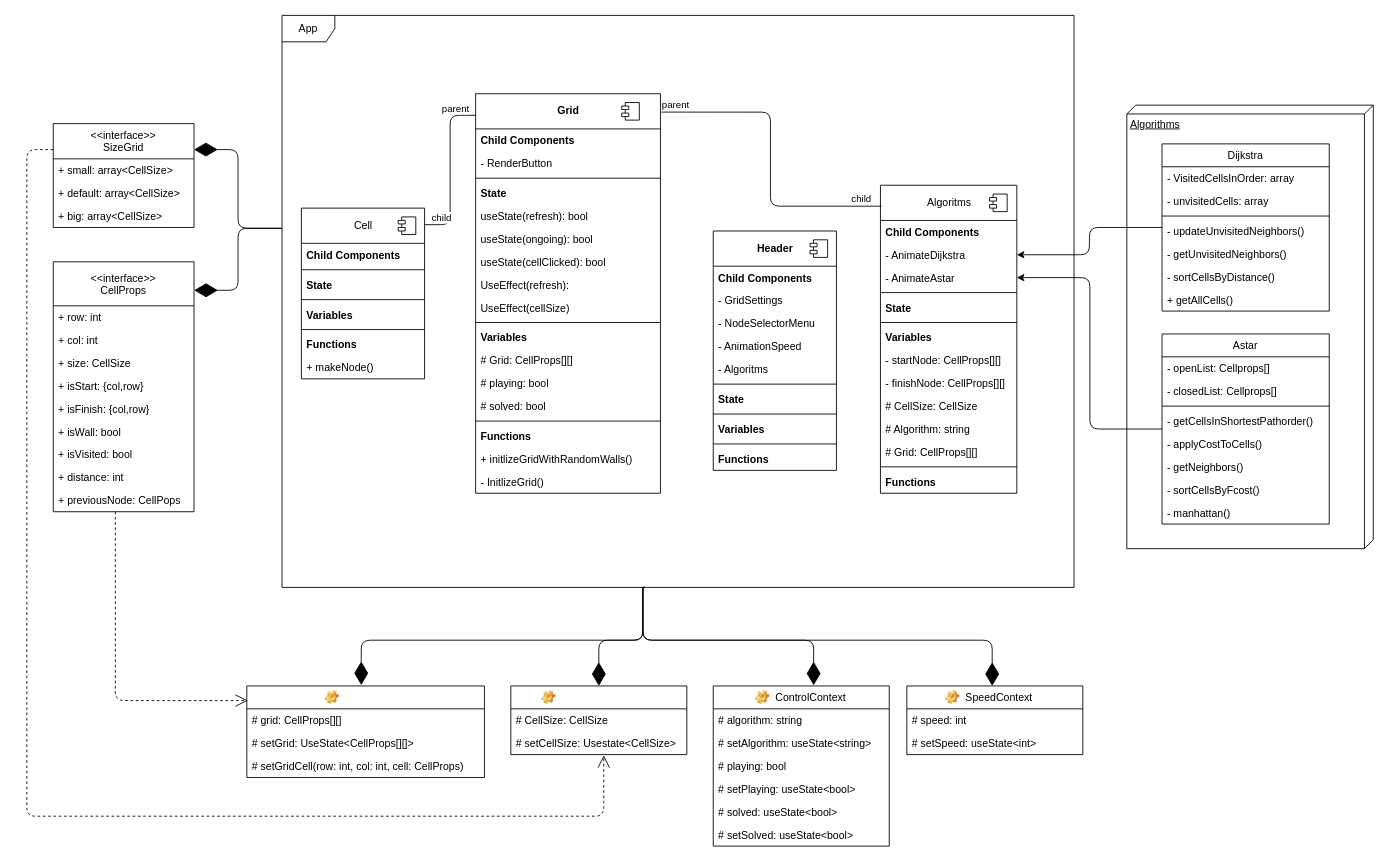
Image size: 1389x864. Some labels were removed from this diagram. Each missing label, with the centre of its shape:
CellSizeContext: point 588,697
GridContext: point 371,697
